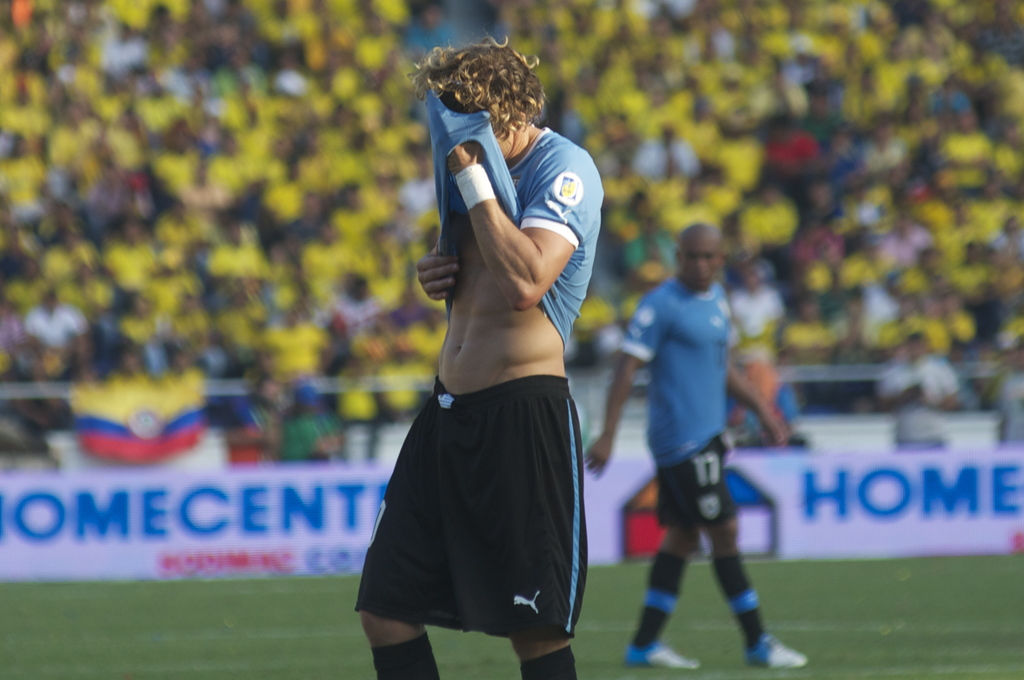person: (331, 352, 383, 422)
